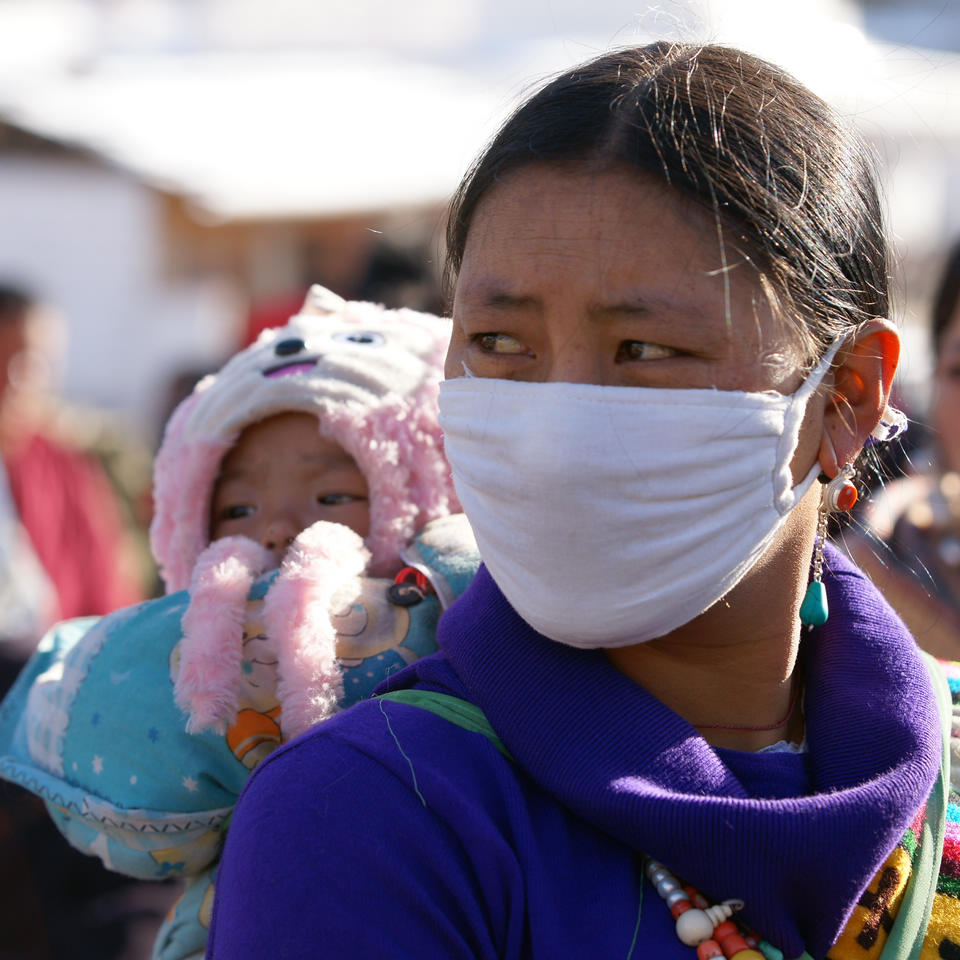face: (201, 415, 390, 657)
face_mask: (439, 160, 790, 613)
